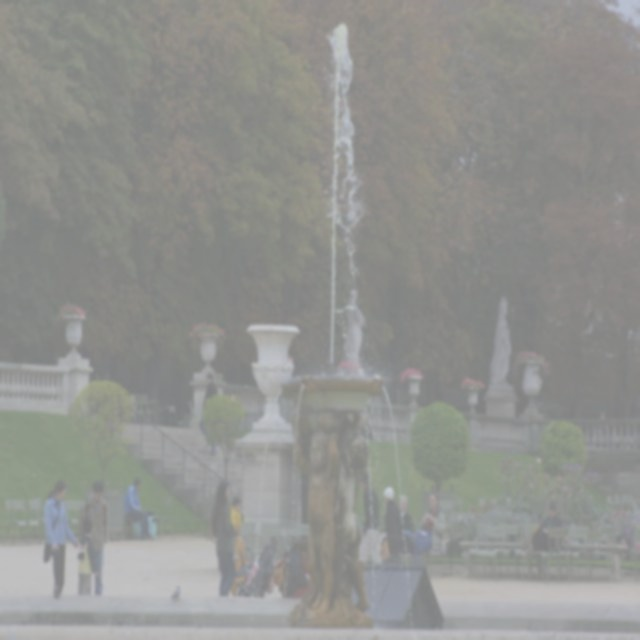pessoa: (292, 417, 372, 621), (75, 474, 111, 608), (42, 478, 81, 601), (208, 477, 238, 598), (119, 472, 158, 542), (518, 500, 564, 558), (198, 368, 223, 460), (381, 483, 408, 559), (413, 492, 446, 554), (230, 494, 248, 598), (284, 538, 313, 599), (357, 468, 382, 537), (398, 493, 413, 529)
